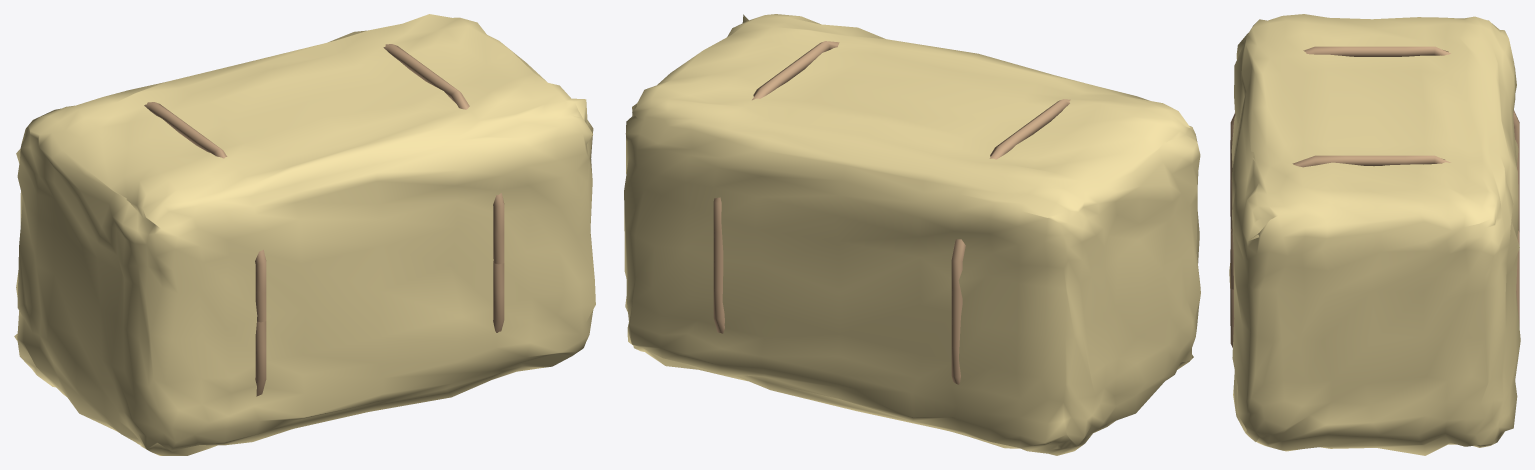
File: HotPotatoHay.glb
3 renders of one model, left to right at view 1: azimuth 30°, elevation 25°; view 2: azimuth 150°, elevation 25°; view 3: azimuth 270°, elevation 25°, orthographic. The views are drawn at different scales.
Parts seen in each view (by area): view 1: Hay, Twine; view 2: Hay, Twine; view 3: Hay, Twine.
Boxes of the visible parts, x1,y1,x2,y2 form: Hay: [14, 14, 595, 455]; Twine: [144, 44, 504, 396]; Hay: [624, 14, 1200, 455]; Twine: [713, 41, 1070, 384]; Hay: [1229, 14, 1520, 455]; Twine: [1230, 46, 1519, 347].
Size of the model in its own units: 5.12 by 2.93 by 2.93.
